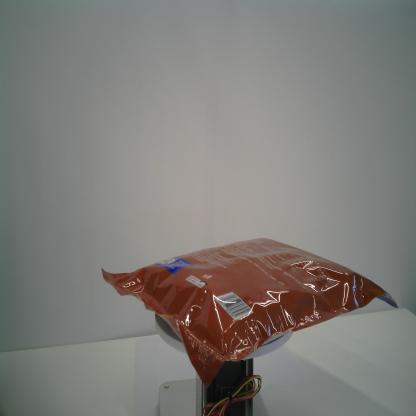Dried Food: (101, 236, 398, 388)
